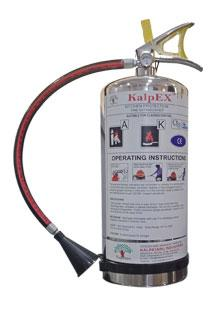Fire Extinguisher: (23, 20, 210, 292)
